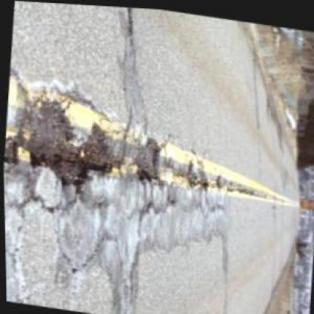Hueco: (3, 97, 118, 195), (132, 133, 163, 183)
